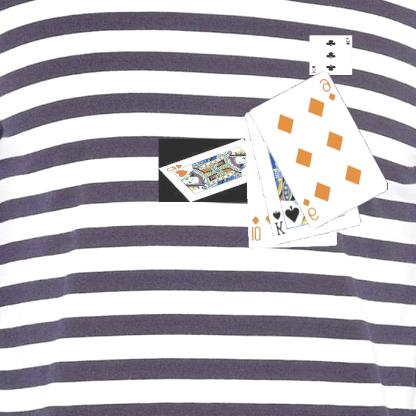10D: (251, 214, 263, 243)
6D: (301, 196, 322, 223), (318, 76, 339, 102)
KS: (271, 208, 288, 237)
